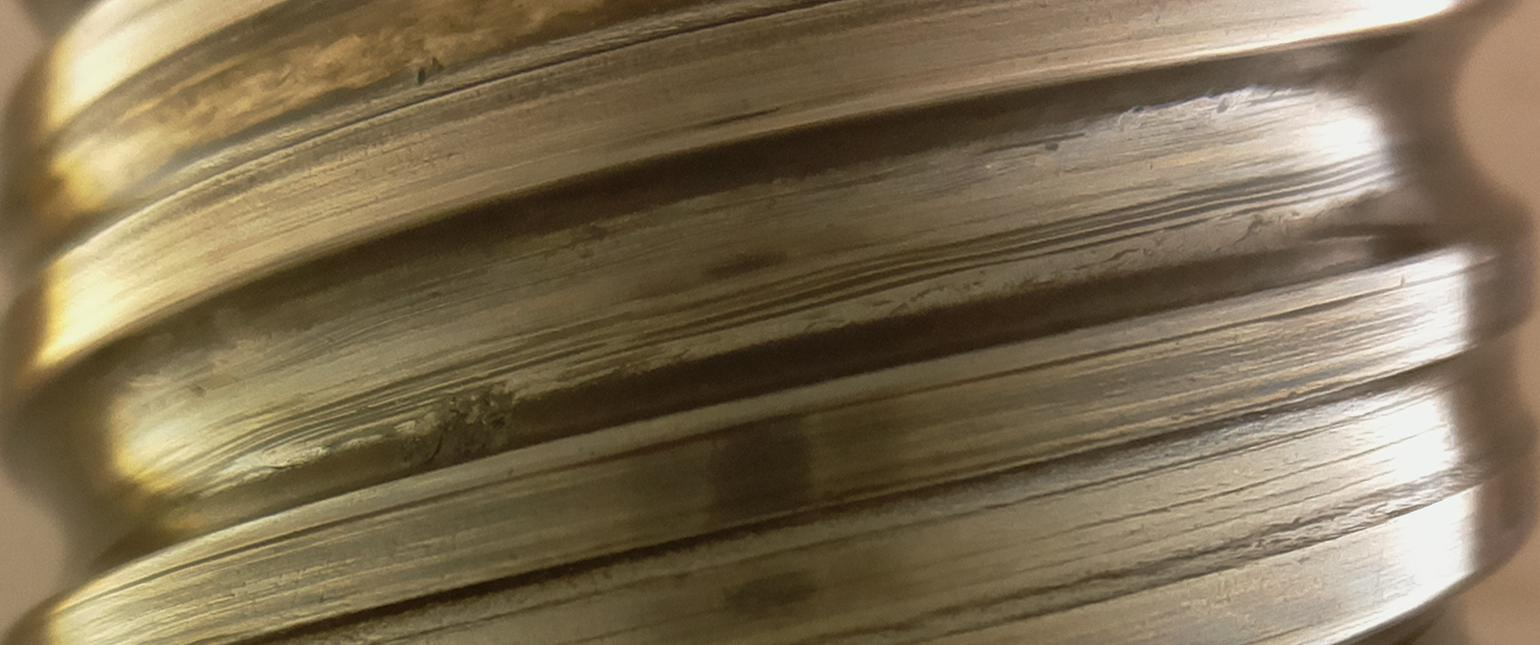pitting: (416, 380, 518, 471)
